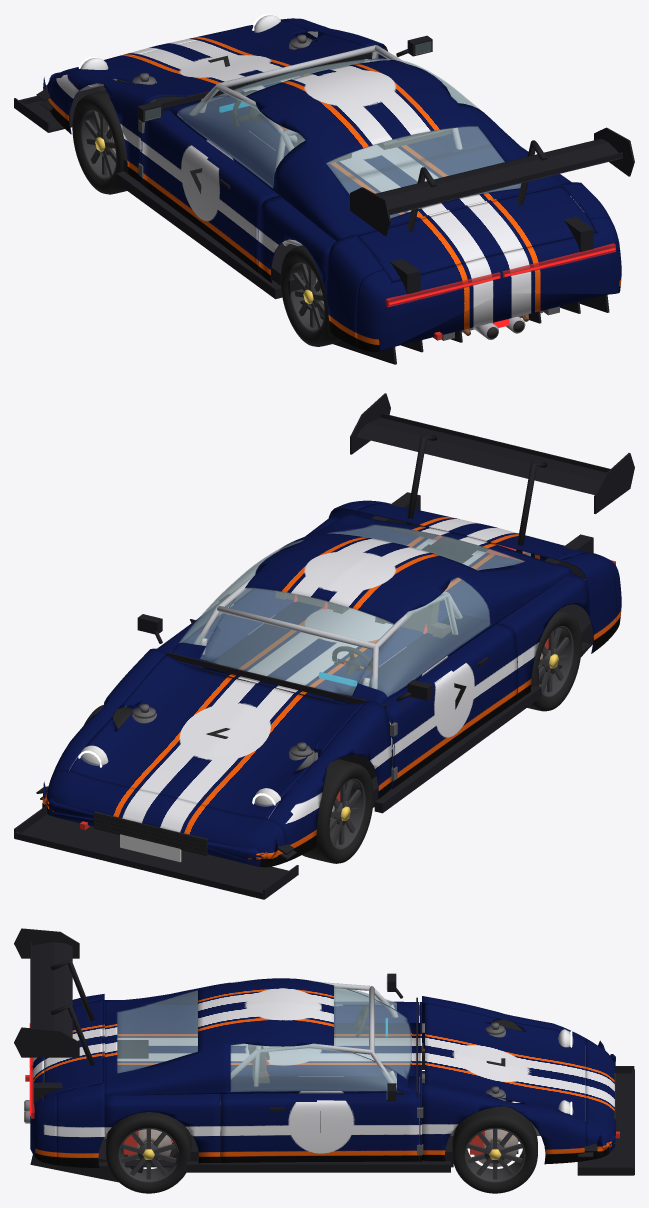
Rendered from fastback.glb.
3 views of the same model, one above another, from view 1: azimuth 30°, elevation 25°; view 2: azimuth 150°, elevation 25°; view 3: azimuth 270°, elevation 25° (orthographic). The views are drawn at different scales.
Visible parts, largest first — view 1: Roof_Pillars, Bumper_R, Door_FL, Trunk, Body_Sides, Hood, RearWing, Rear_Glass, Window_FL, Body_Rear, Fender_L, SideSkirt_L (+19 smaller); view 2: Hood, Roof_Pillars, Body_Sides, Door_FL, Windshield, RearWing, Bumper_F, Splitter, Window_FL, Fender_L, Body_Rear, Door_FR (+14 smaller); view 3: Roof_Pillars, Door_FR, Body_Sides, Hood, RearWing, Window_FR, Fender_R, Rear_Glass, Windshield, Body_Rear, Tire_FR, Bumper_F (+18 smaller).
Part boxes in pixels (bbox=[...]): Roof_Pillars: bbox=[169, 58, 563, 241]; Bumper_R: bbox=[356, 217, 621, 352]; Door_FL: bbox=[142, 99, 278, 273]; Trunk: bbox=[357, 186, 595, 281]; Body_Sides: bbox=[140, 67, 588, 291]; Hood: bbox=[70, 20, 364, 96]; RearWing: bbox=[350, 127, 634, 235]; Rear_Glass: bbox=[326, 126, 520, 218]; Window_FL: bbox=[177, 96, 305, 187]; Body_Rear: bbox=[325, 182, 610, 347]; Fender_L: bbox=[49, 69, 167, 181]; SideSkirt_L: bbox=[116, 171, 282, 299]; Hood: bbox=[69, 654, 364, 818]; Roof_Pillars: bbox=[172, 514, 571, 703]; Body_Sides: bbox=[184, 516, 589, 788]; Door_FL: bbox=[334, 615, 517, 787]; Windshield: bbox=[200, 587, 393, 695]; RearWing: bbox=[350, 393, 634, 553]; Bumper_F: bbox=[42, 770, 287, 867]; Splitter: bbox=[14, 805, 298, 899]; Window_FL: bbox=[358, 577, 490, 697]; Fender_L: bbox=[268, 701, 392, 861]; Body_Rear: bbox=[328, 500, 617, 653]; Door_FR: bbox=[158, 589, 293, 668]; Roof_Pillars: bbox=[102, 978, 411, 1095]; Door_FR: bbox=[220, 1076, 419, 1162]; Body_Sides: bbox=[104, 1000, 421, 1163]; Hood: bbox=[425, 1002, 585, 1120]; RearWing: bbox=[14, 928, 94, 1065]; Window_FR: bbox=[230, 1043, 396, 1091]; Fender_R: bbox=[422, 1083, 585, 1164]; Rear_Glass: bbox=[117, 990, 197, 1073]; Windshield: bbox=[334, 985, 411, 1078]; Body_Rear: bbox=[56, 994, 104, 1168]; Tire_FR: bbox=[452, 1106, 537, 1193]; Bumper_F: bbox=[586, 1038, 615, 1160].
Size of the model in its own units: 2.21 by 1.45 by 4.93.
Materials: 31 (1 with a texture image).
